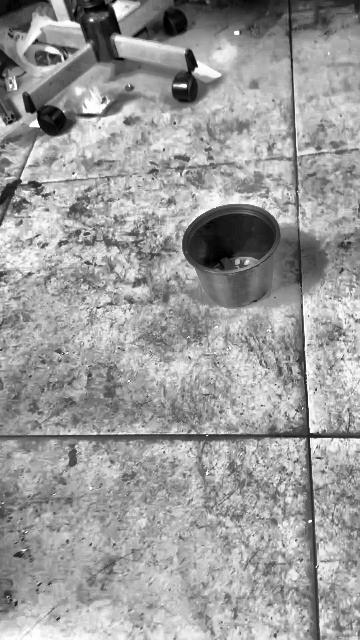pot: (183, 204, 281, 307)
